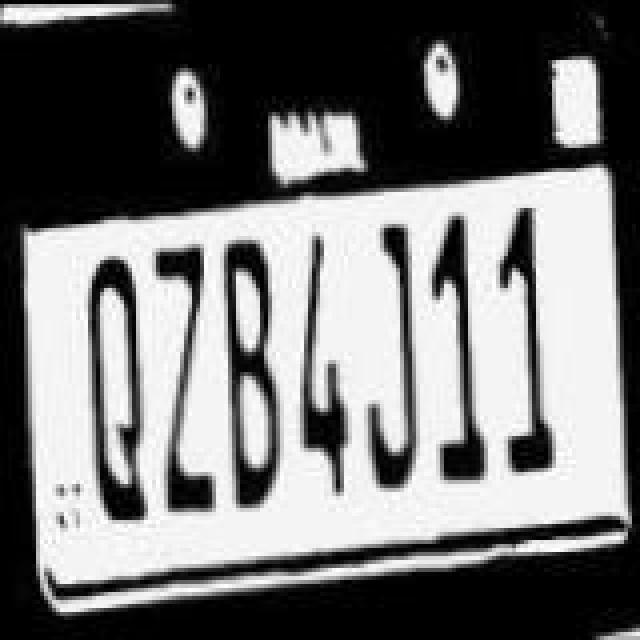1: (488, 206, 568, 474), (420, 214, 492, 482)
4: (286, 232, 362, 500)
B: (218, 238, 294, 514)
J: (356, 218, 428, 486)
Q: (78, 258, 158, 526)
Z: (142, 242, 218, 518)
